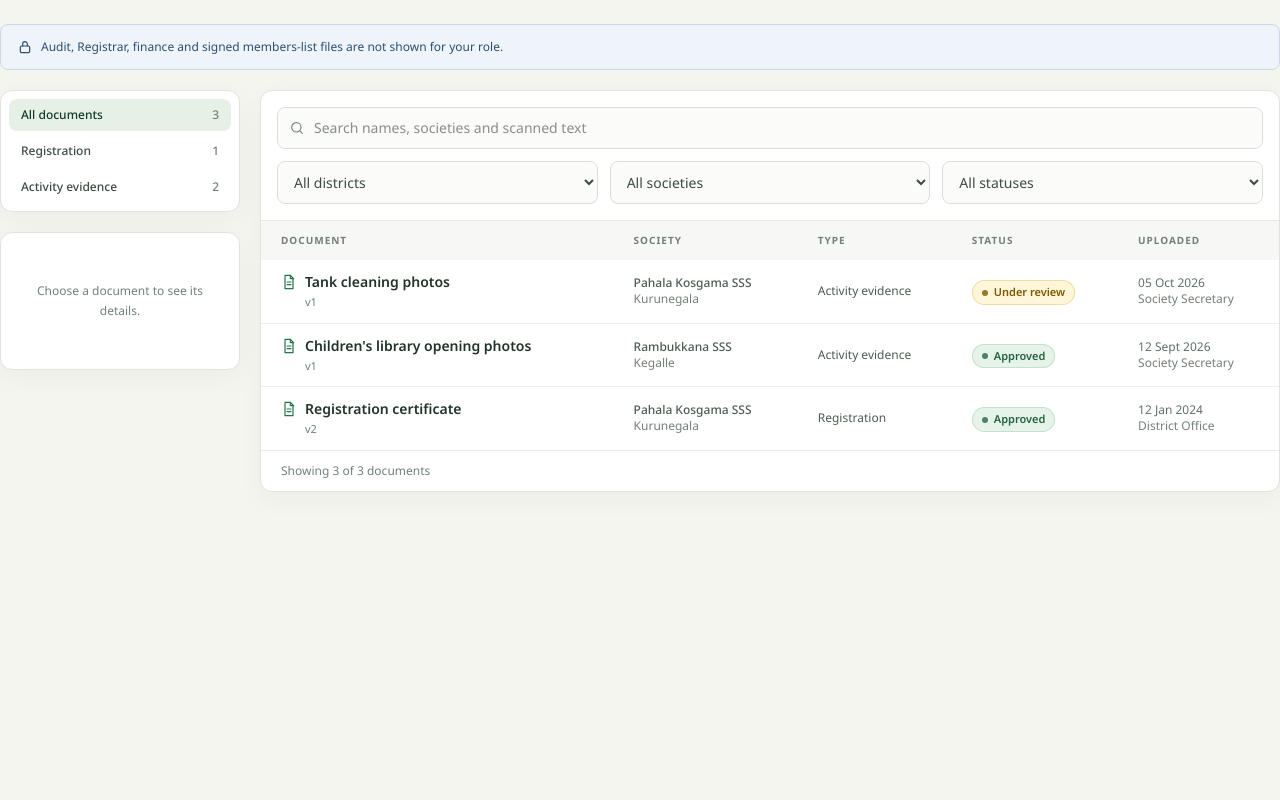
DocumentLibrary › never shows restricted documents to a programme coordinator
Check: the number of buttons named "Preview " is 3, box [281,272,450,310]; [281,336,531,374]; [281,399,462,438]
Check: the text "not shown for your role" is shown, box [41,38,503,55]
In the search field named "Search documents": (770, 128) [277,107,1263,149], type "members"
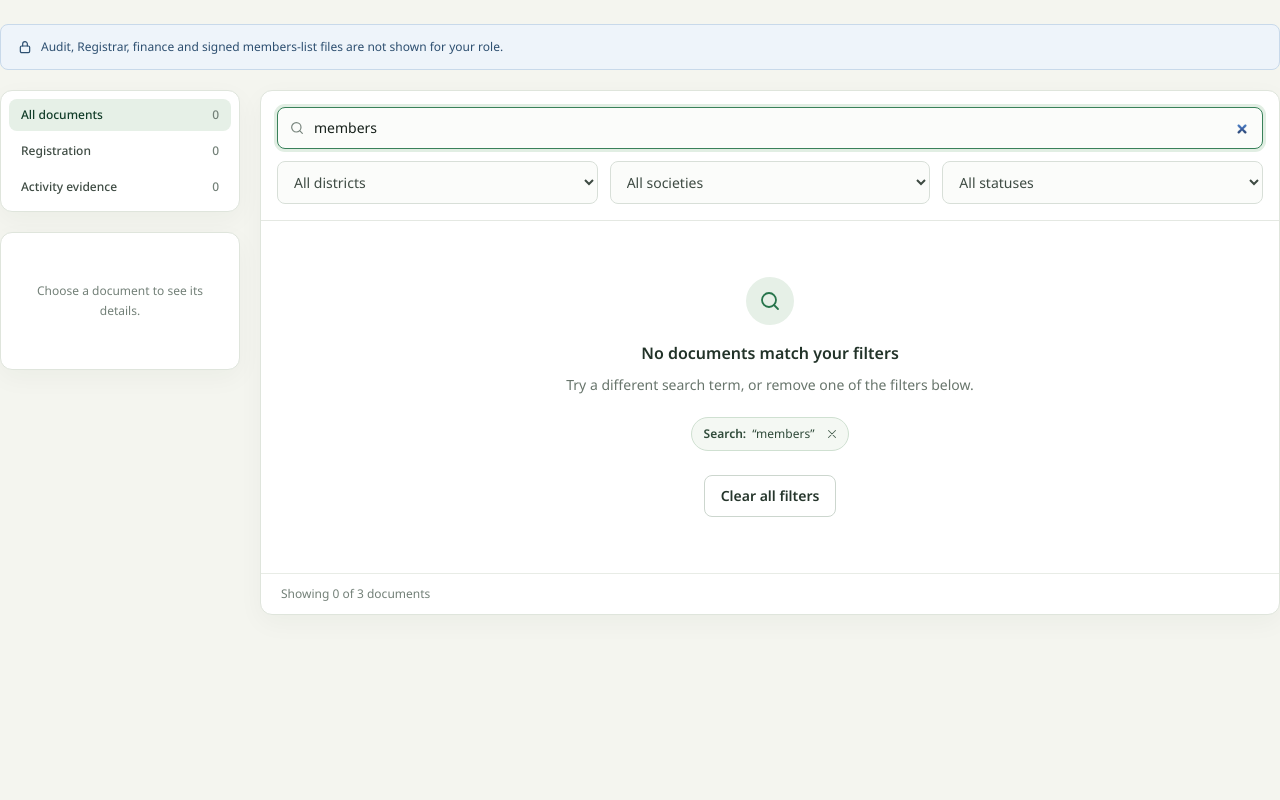
Check: the heading "No documents match your filters" is shown, box [641,341,899,365]
